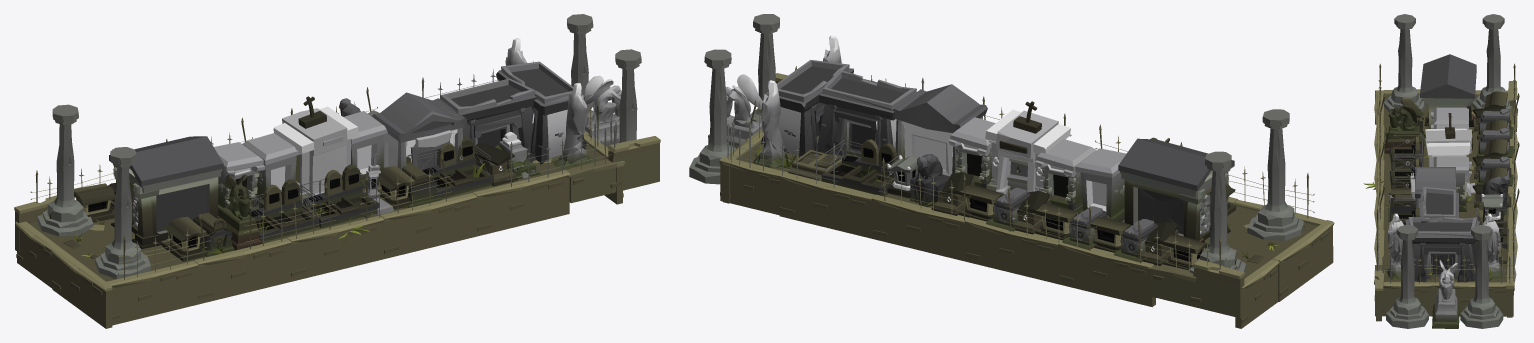
Rendered from NecroPOLY_Chunk_01c.fbx.
3 renders of one model, left to right at view 1: azimuth 30°, elevation 25°; view 2: azimuth 150°, elevation 25°; view 3: azimuth 270°, elevation 25°, orthographic. The views are drawn at different scales.
Parts seen in each view (by area): view 1: NecroPOLY_Chunk_01c_LOD0; view 2: NecroPOLY_Chunk_01c_LOD0; view 3: NecroPOLY_Chunk_01c_LOD0.
Boxes of the visible parts, bbox=[...] form: NecroPOLY_Chunk_01c_LOD0: bbox=[14, 14, 660, 328]; NecroPOLY_Chunk_01c_LOD0: bbox=[689, 14, 1334, 328]; NecroPOLY_Chunk_01c_LOD0: bbox=[1363, 14, 1519, 328].
Size of what is drawn, in the model's own units: 62.07 by 15.76 by 18.99.
